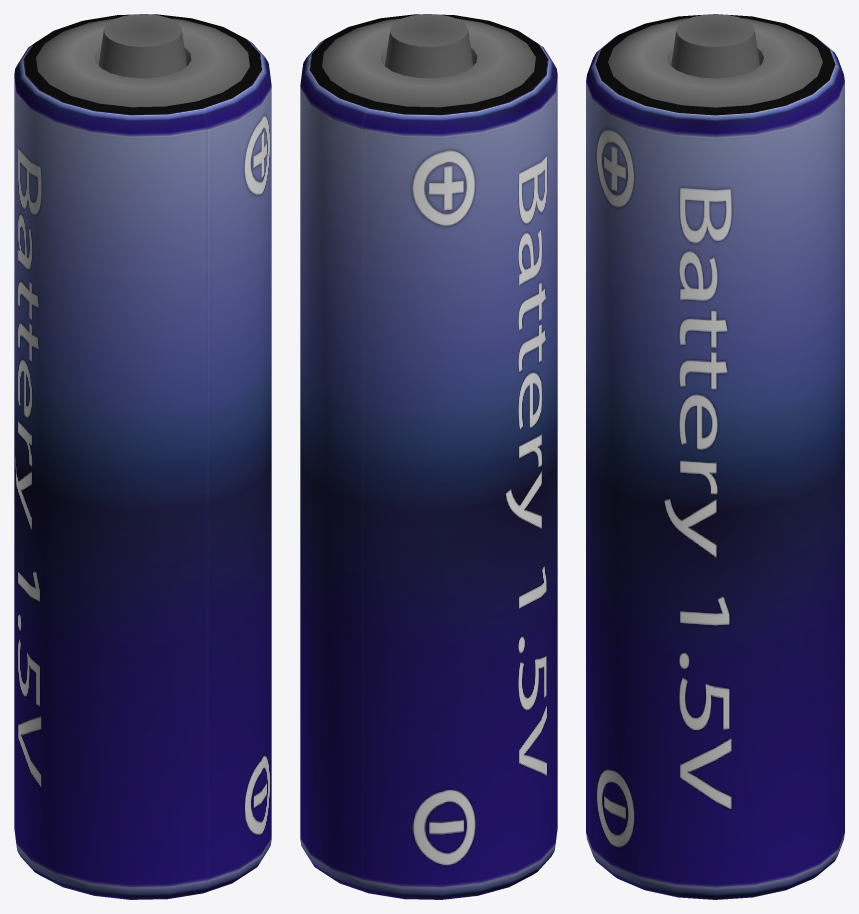
File: battery_-_batarya.glb
3 renders of one model, left to right at view 1: azimuth 30°, elevation 25°; view 2: azimuth 150°, elevation 25°; view 3: azimuth 270°, elevation 25°, orthographic.
Parts seen in each view (by area): view 1: Cylinder001; view 2: Cylinder001; view 3: Cylinder001.
Boxes of the visible parts, bbox=[...] form: Cylinder001: bbox=[14, 14, 271, 899]; Cylinder001: bbox=[300, 14, 557, 899]; Cylinder001: bbox=[586, 14, 844, 899].
Size of the model in its own units: 11.39 by 40.18 by 11.39.
Materials: 1 (1 with a texture image).
